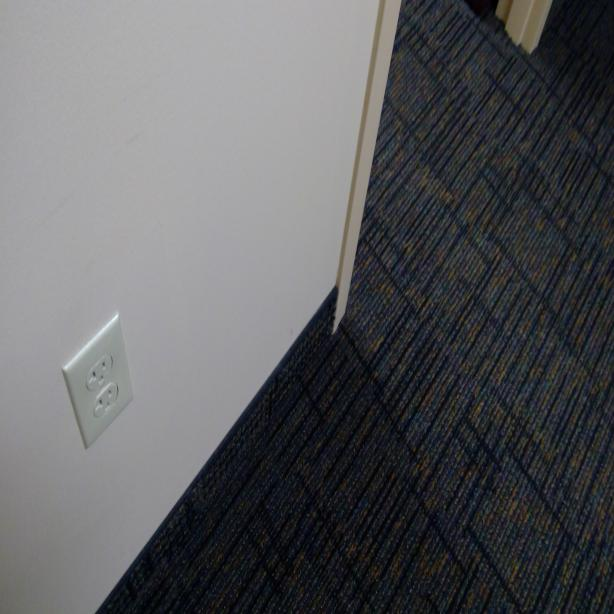typeb: (94, 384, 120, 428), (83, 351, 113, 385)
